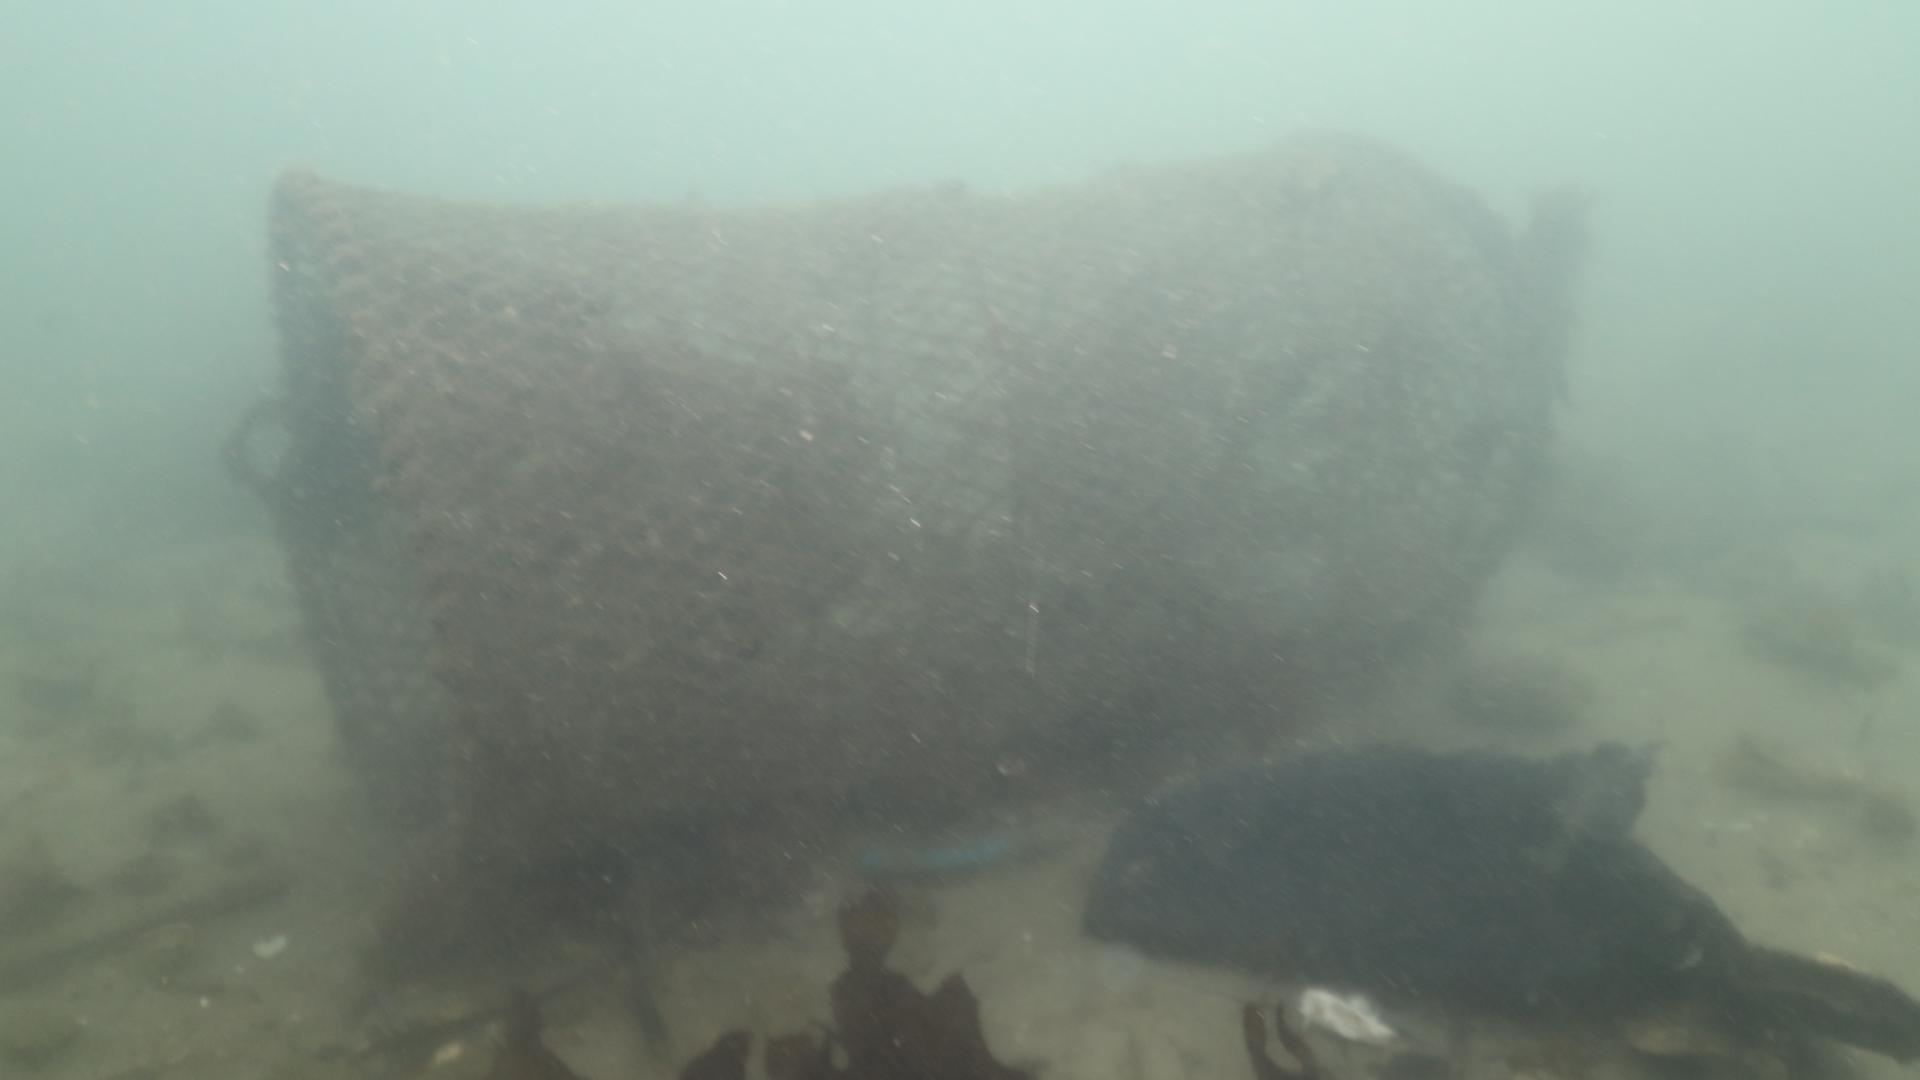spring fish trap: (270, 125, 1553, 898)
